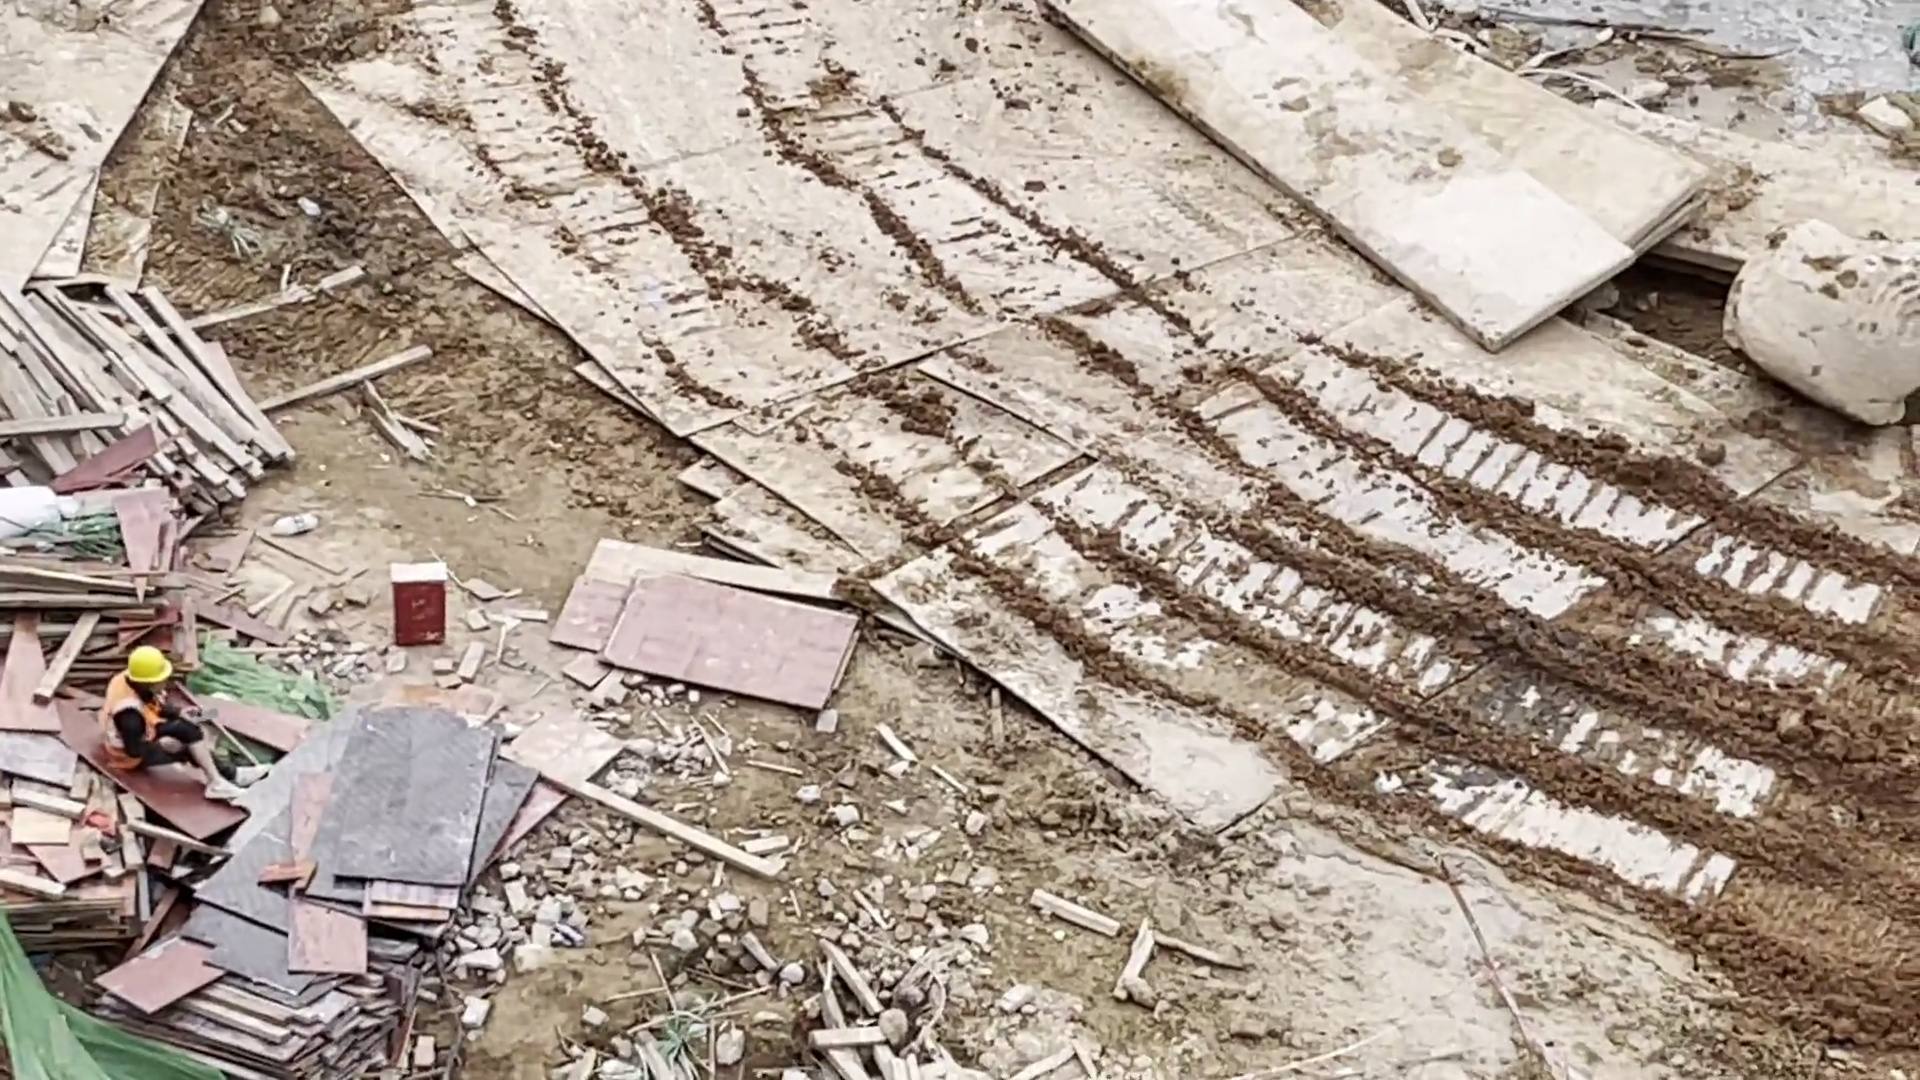helmet: (124, 644, 173, 686)
person: (96, 644, 268, 797)
vest: (101, 673, 161, 762)
